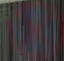No Stopping: (7, 2, 53, 54)
